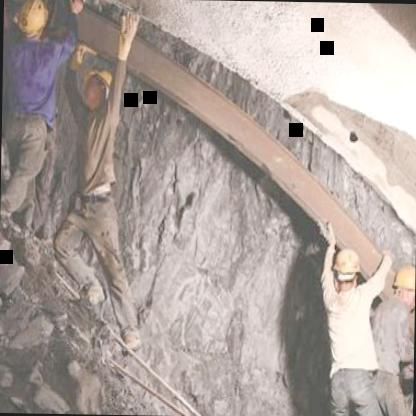helmet: (80, 64, 112, 110), (14, 0, 49, 42), (334, 245, 361, 292), (394, 262, 414, 316)
